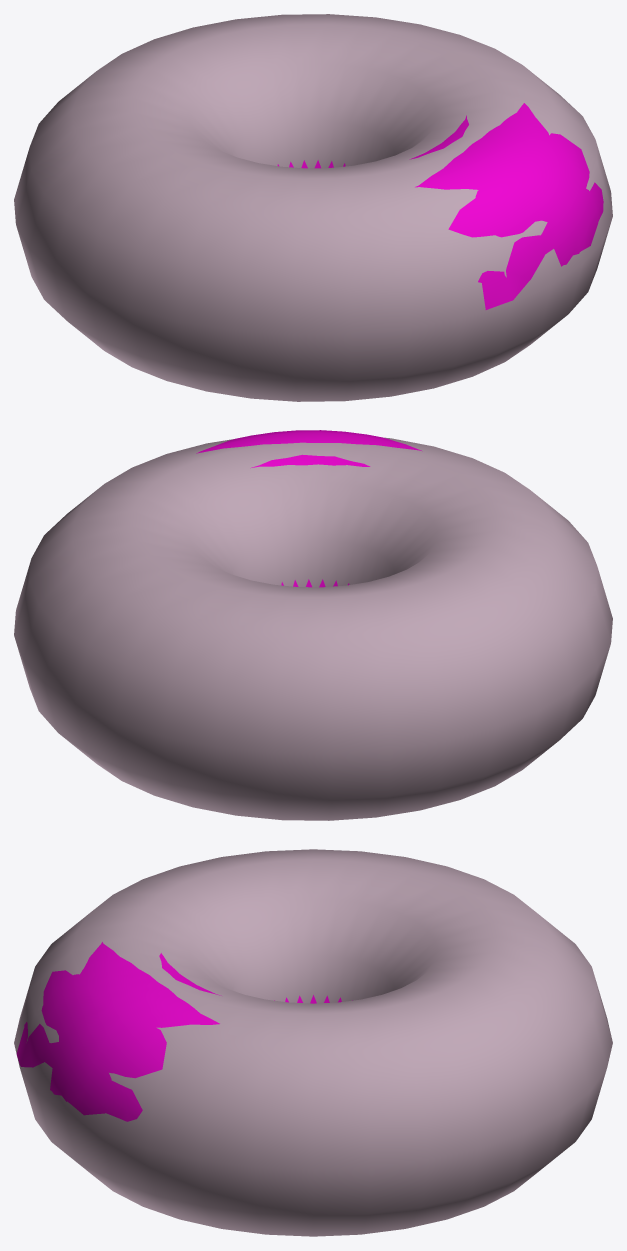
File: donutEnemyRandom.glb
3 renders of one model, top to bottom at view 1: azimuth 30°, elevation 25°; view 2: azimuth 150°, elevation 25°; view 3: azimuth 270°, elevation 25°, orthographic.
Visible parts, largest first — view 1: Donut, Icing; view 2: Donut, Icing; view 3: Donut, Icing.
Part boxes in pixels (left/top/right/bottom): Donut: left=14, top=14, right=612, bottom=401; Icing: left=277, top=103, right=603, bottom=309; Donut: left=14, top=437, right=612, bottom=820; Icing: left=196, top=430, right=422, bottom=587; Donut: left=14, top=849, right=612, bottom=1236; Icing: left=16, top=942, right=352, bottom=1121.
Size of the model in its own units: 1.28 by 0.5 by 1.28.
